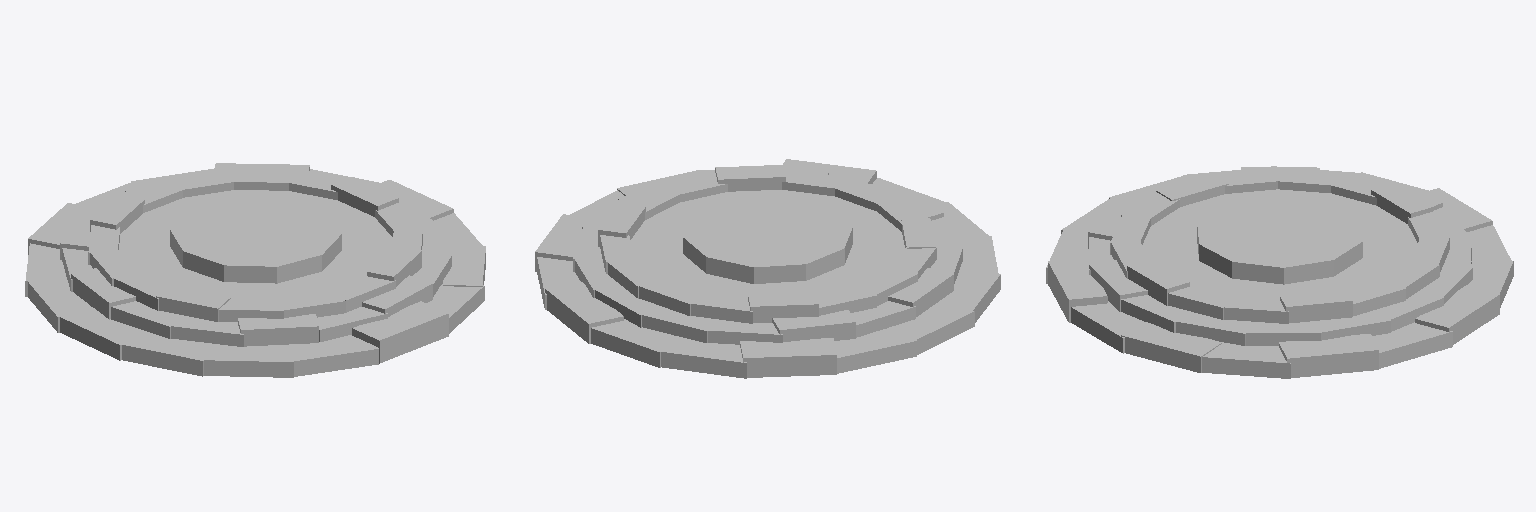
File: platform.obj
3 views of the same model, side by side, from view 1: azimuth 30°, elevation 25°; view 2: azimuth 150°, elevation 25°; view 3: azimuth 270°, elevation 25° (orthographic).
Parts seen in each view (by area): view 1: platform; view 2: platform; view 3: platform.
Part boxes in pixels (x1,y1,x2,y2): platform: (25,163,485,377); platform: (535,159,1000,378); platform: (1046,166,1513,378).
Size of the model in its own units: 3.28 by 0.3785 by 3.28.